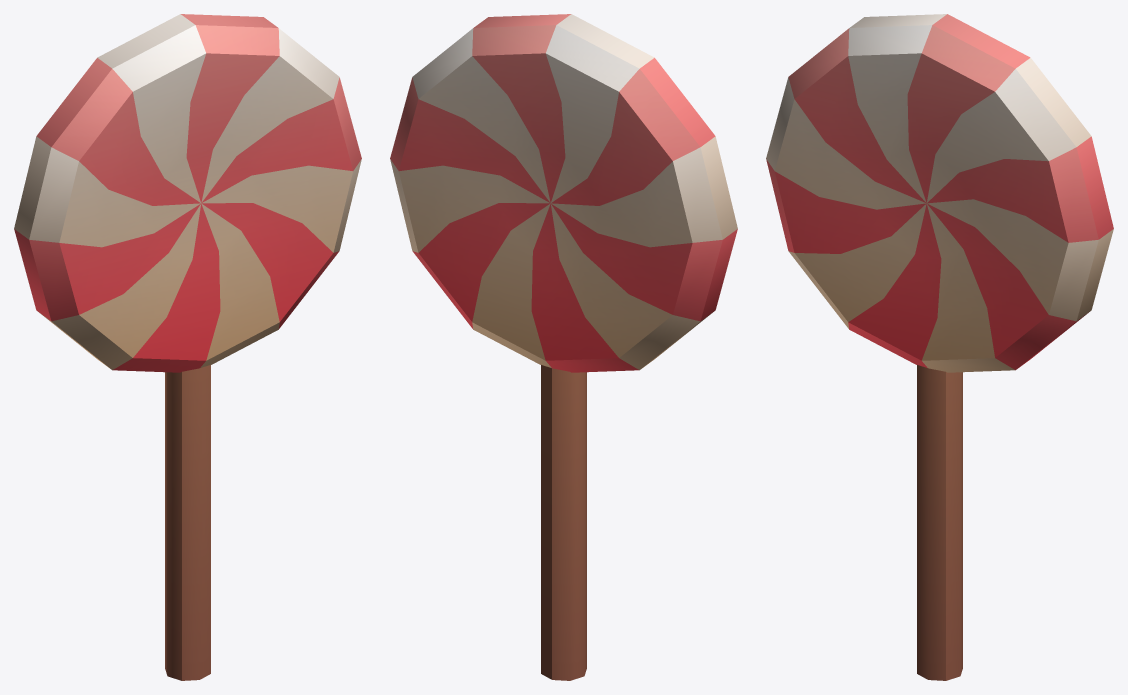
Rendered from lollipop_pink.fbx.
The picture shows the model from 3 angles, left to right: view 1: azimuth 30°, elevation 25°; view 2: azimuth 150°, elevation 25°; view 3: azimuth 330°, elevation 25°; orthographic projection.
Parts seen in each view (by area): view 1: lollipop_pink; view 2: lollipop_pink; view 3: lollipop_pink.
Boxes of the visible parts, x1,y1,x2,y2 form: lollipop_pink: (14, 14, 361, 680); lollipop_pink: (390, 14, 737, 680); lollipop_pink: (766, 14, 1113, 680).
Bounding box in the file's own units: 65 × 123 × 12.39.
